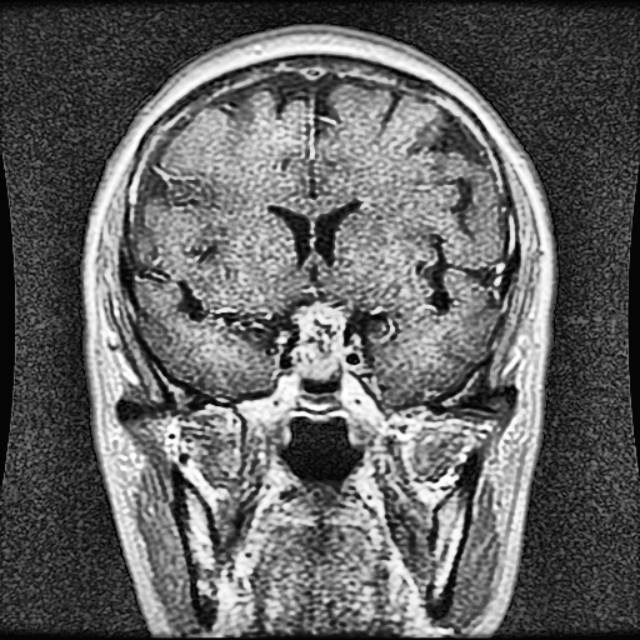Pituitary: (290, 307, 347, 380)
